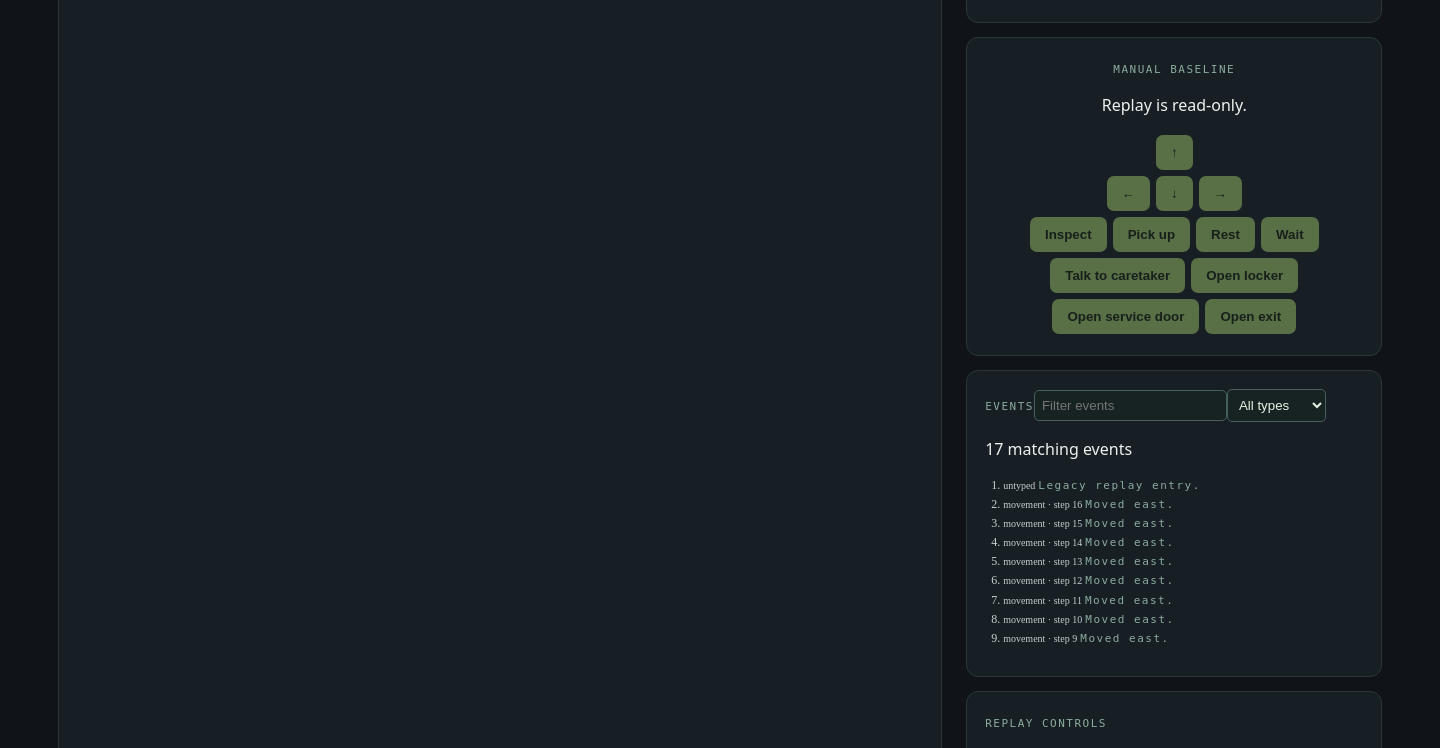
Scenario: Observer › filters replay events by type and text, including older and untyped events
The width and height of the screenshot is (1440, 748).
(page scrolled)
Select "hazard" in the dropdown named "Event type" at (1276, 405), box [1227,388,1326,422]
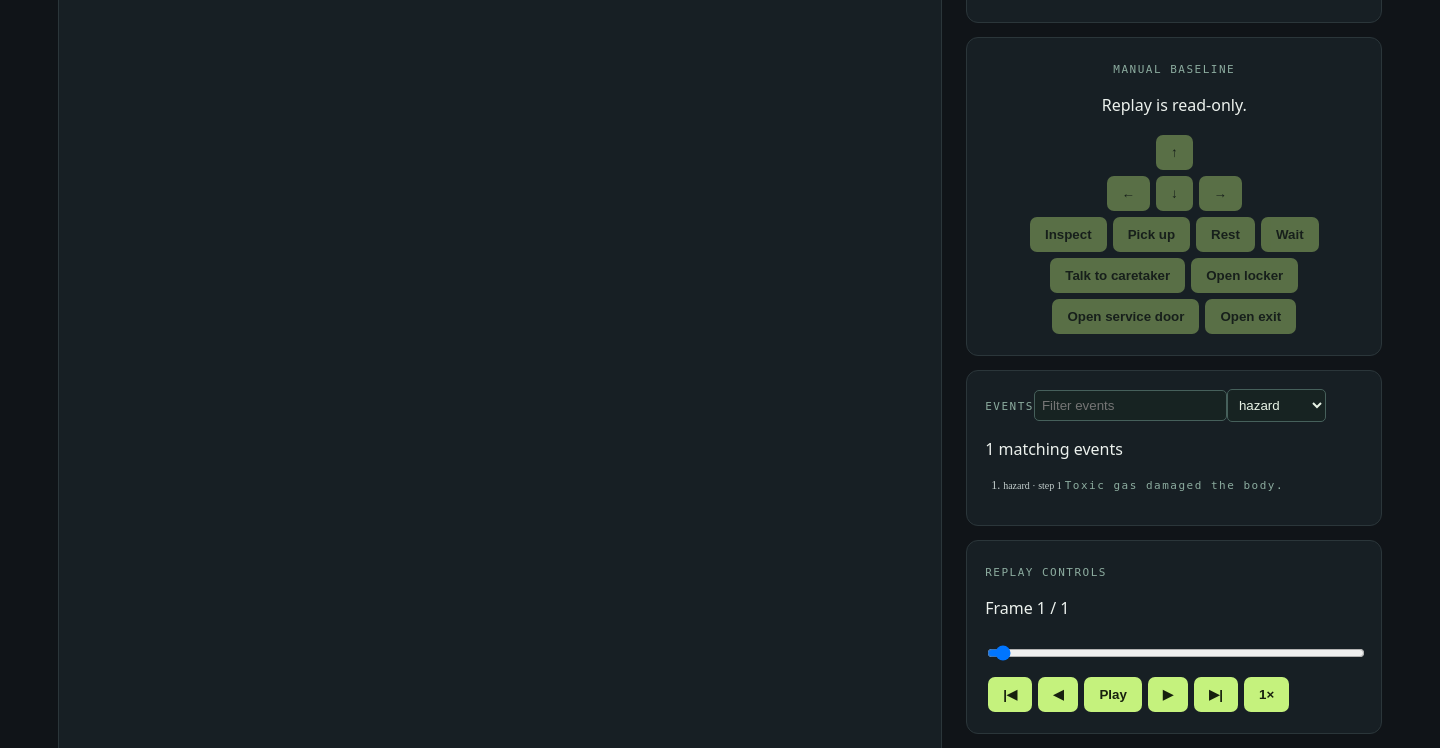
Check: the text "Moved east." is gone
Check: the text "1 matching events" is shown, box [985,438,1123,460]
Type "TOXIC" into the field labelled "Filter events".
click(1130, 405); type("TOXIC")  # box [1034,390,1227,420]
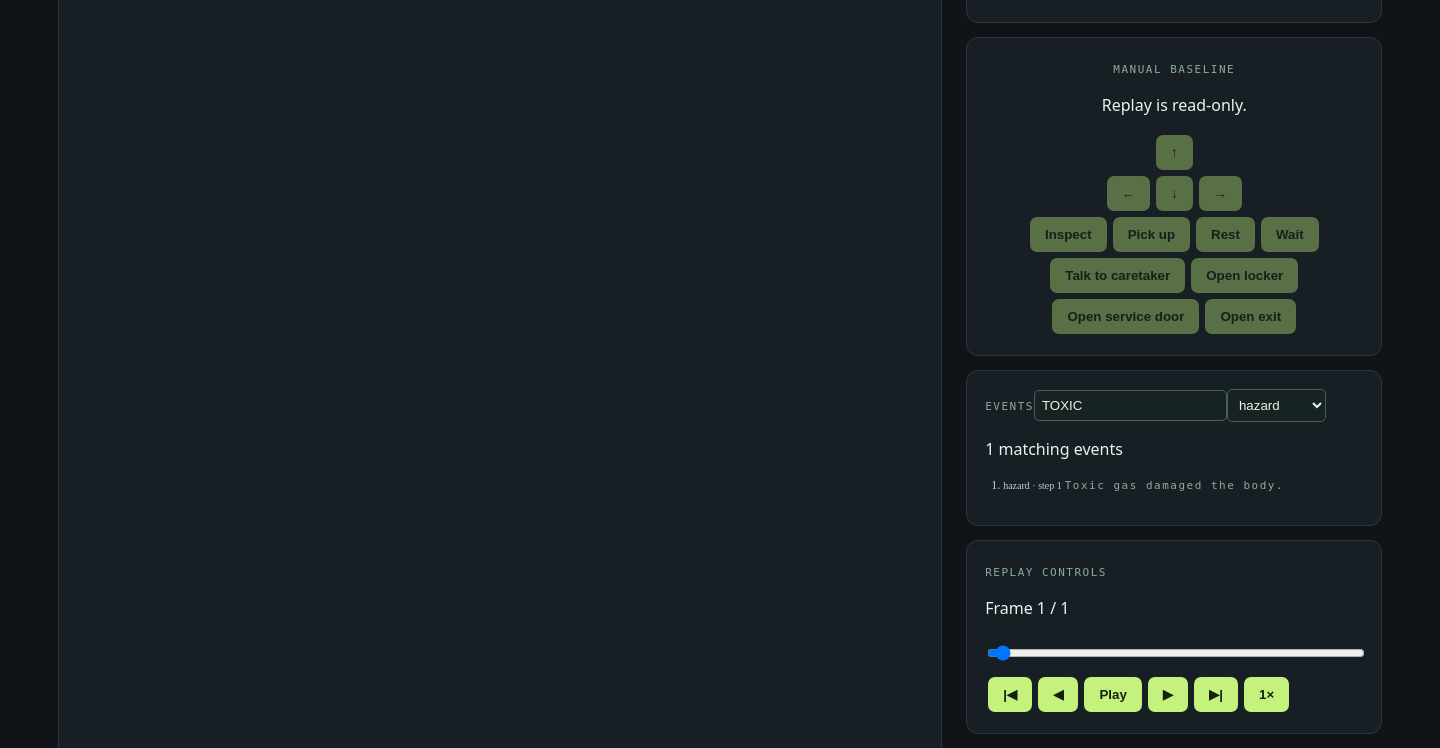
Check: the text "Toxic gas damaged the body." is shown, box [1065,478,1284,492]
Replace the text in the field named "Filter events" with "water" at (1130, 405), box [1034,390,1227,420]
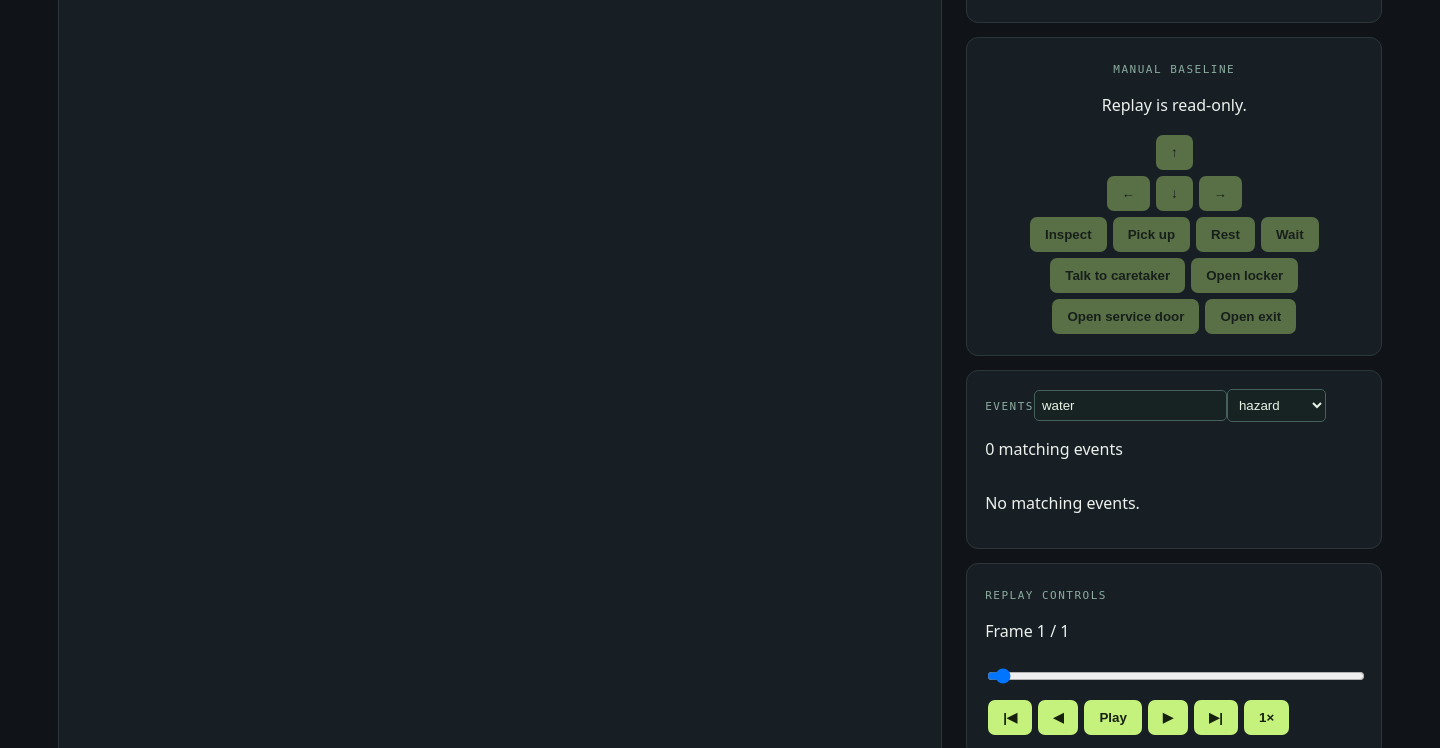
Check: the text "No matching events." is shown, box [985,492,1140,514]
Clear the field named "Filter events" at (1130, 405), box [1034,390,1227,420]
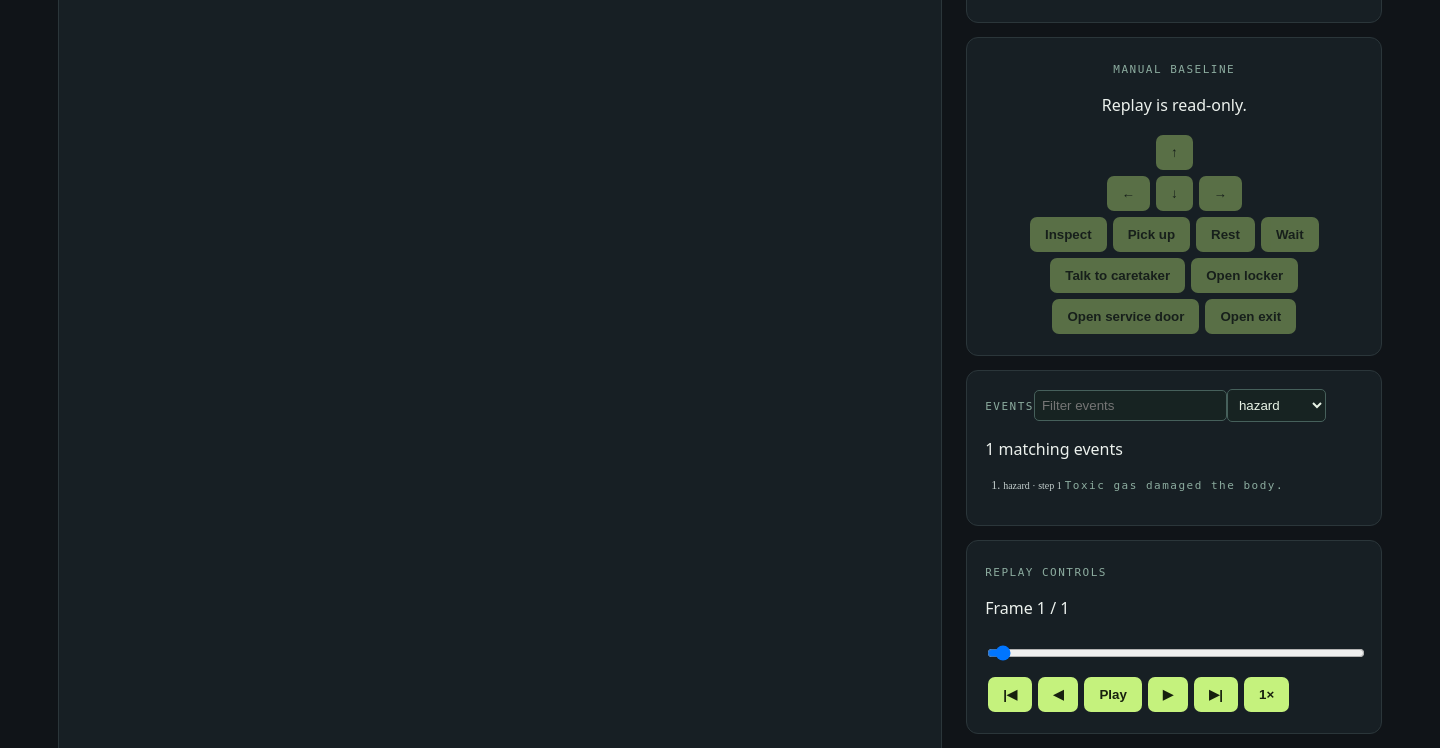
Select "untyped" in the dropdown named "Event type" at (1276, 405), box [1227,388,1326,422]
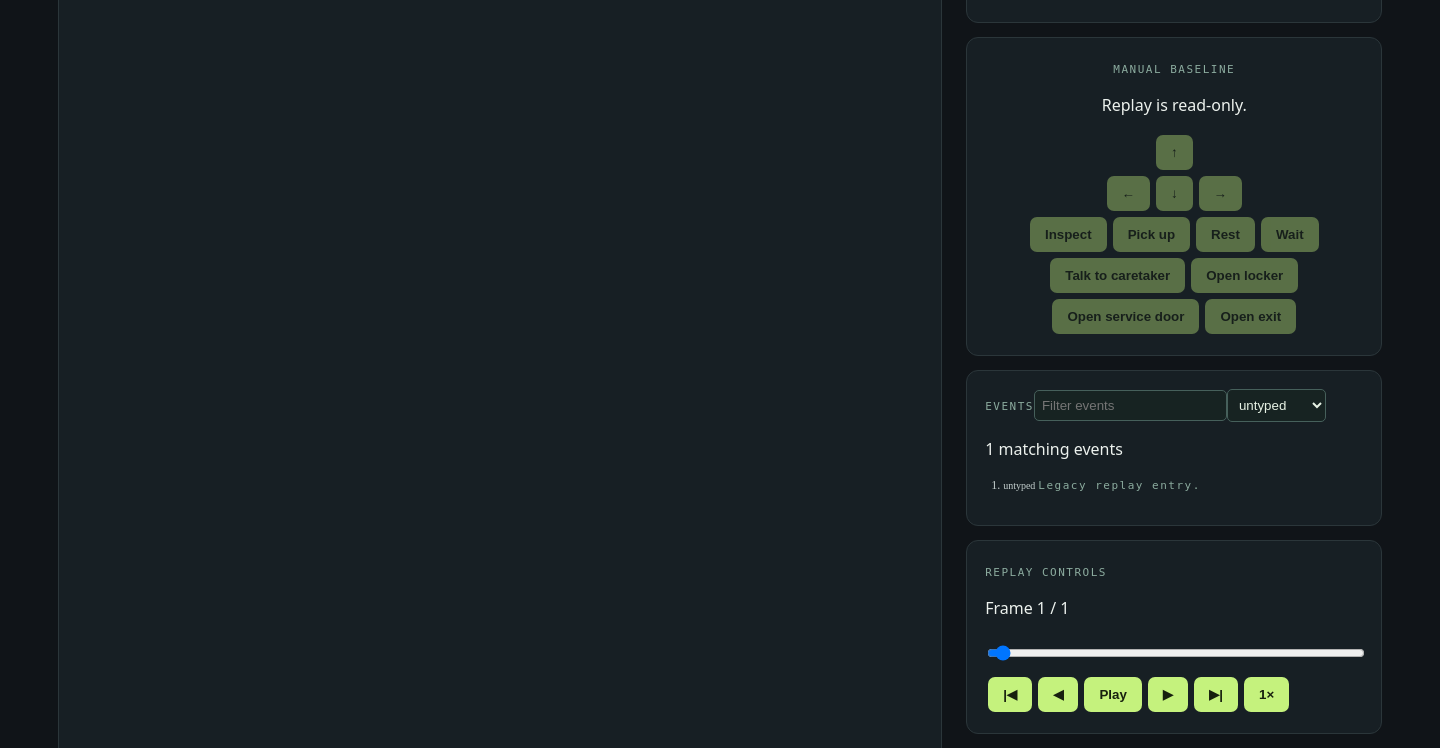
Check: the text "Legacy replay entry." is shown, box [1038,478,1201,492]
